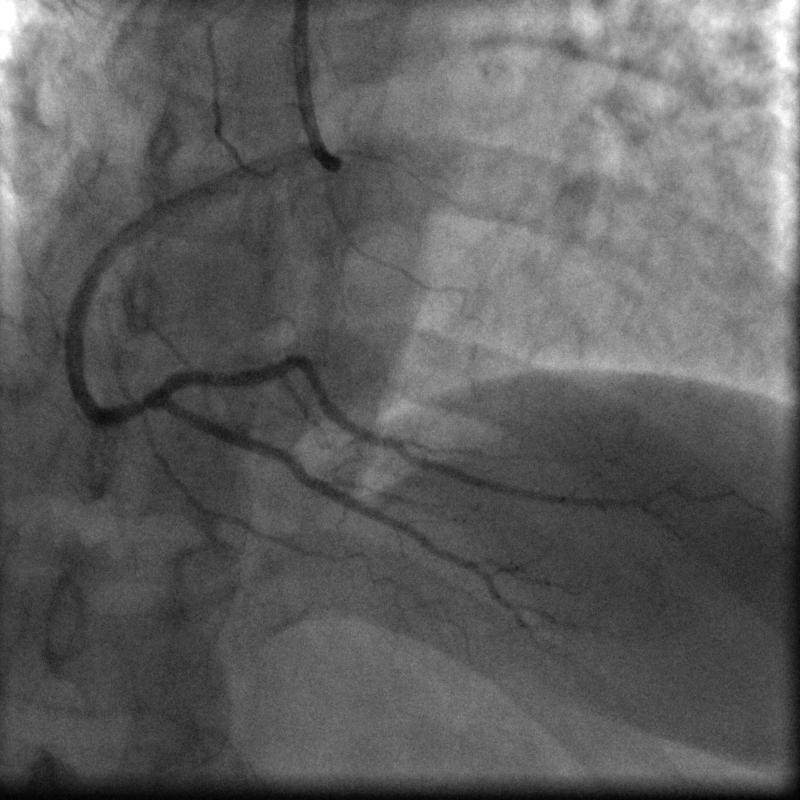Stenosis: (121, 391, 157, 417)
